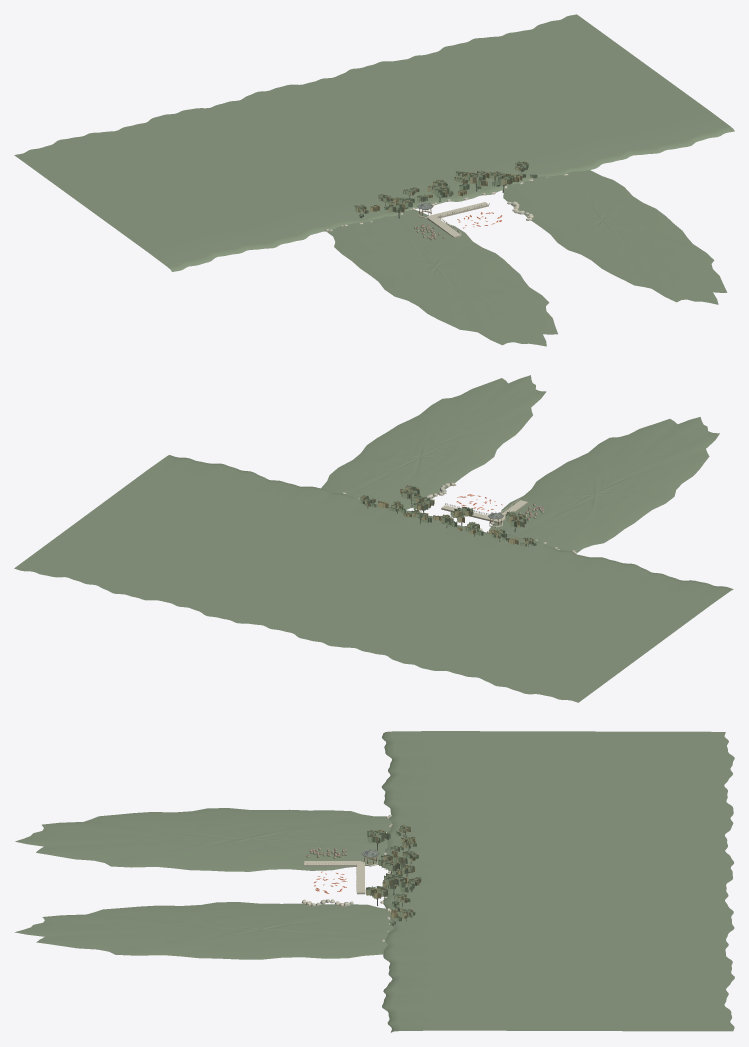
The model's file is fish-harbor.glb.
The picture shows the model from 3 angles, top to bottom: view 1: azimuth 30°, elevation 25°; view 2: azimuth 150°, elevation 25°; view 3: azimuth 270°, elevation 25°; orthographic projection. The views are drawn at different scales.
Parts seen in each view (by area): view 1: earth, crown0, crown2, crown1, stone; view 2: earth, crown2, crown0, crown1, stone; view 3: earth, crown1, crown0, crown2, stone.
Part boxes in pixels (left/top/right/bottom): earth: left=14, top=14, right=734, bottom=346; crown0: left=355, top=161, right=528, bottom=218; crown2: left=354, top=162, right=528, bottom=212; crown1: left=354, top=161, right=537, bottom=213; stone: left=329, top=174, right=566, bottom=237; earth: left=14, top=375, right=733, bottom=702; crown2: left=361, top=486, right=533, bottom=544; crown0: left=361, top=486, right=536, bottom=545; crown1: left=360, top=485, right=533, bottom=546; stone: left=345, top=482, right=574, bottom=552; earth: left=15, top=731, right=734, bottom=1032; crown1: left=367, top=826, right=419, bottom=925; crown0: left=366, top=826, right=421, bottom=921; crown2: left=365, top=825, right=420, bottom=918; stone: left=302, top=817, right=392, bottom=940.
Size of the model in its own units: 300 by 10.1 by 305.
